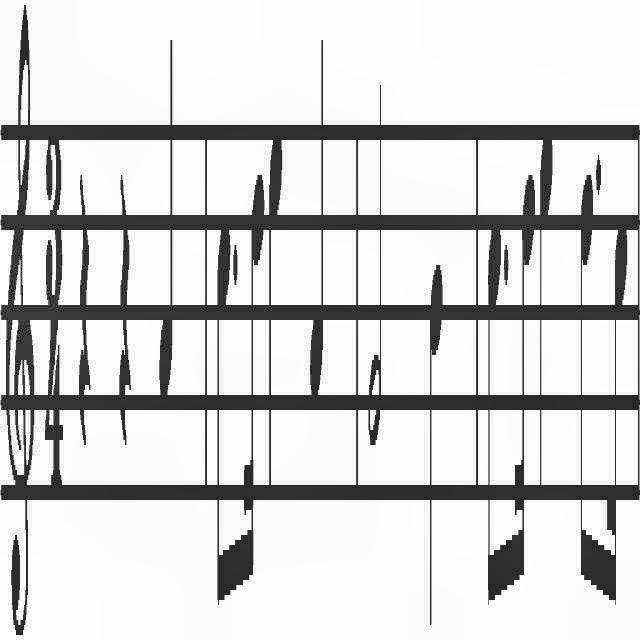Bass-clef: (4, 5, 36, 640)
Eighth-note: (580, 163, 596, 595), (486, 218, 502, 618), (216, 216, 230, 616)
Half-note: (368, 66, 384, 460)
Quarter-note: (157, 26, 177, 408), (308, 28, 326, 416), (266, 123, 284, 505), (538, 116, 554, 516), (427, 247, 443, 637)
Quarter-rest: (118, 174, 134, 466), (76, 170, 92, 458)
Sixteenth-note: (242, 158, 266, 592), (514, 168, 536, 582), (606, 212, 628, 616)
